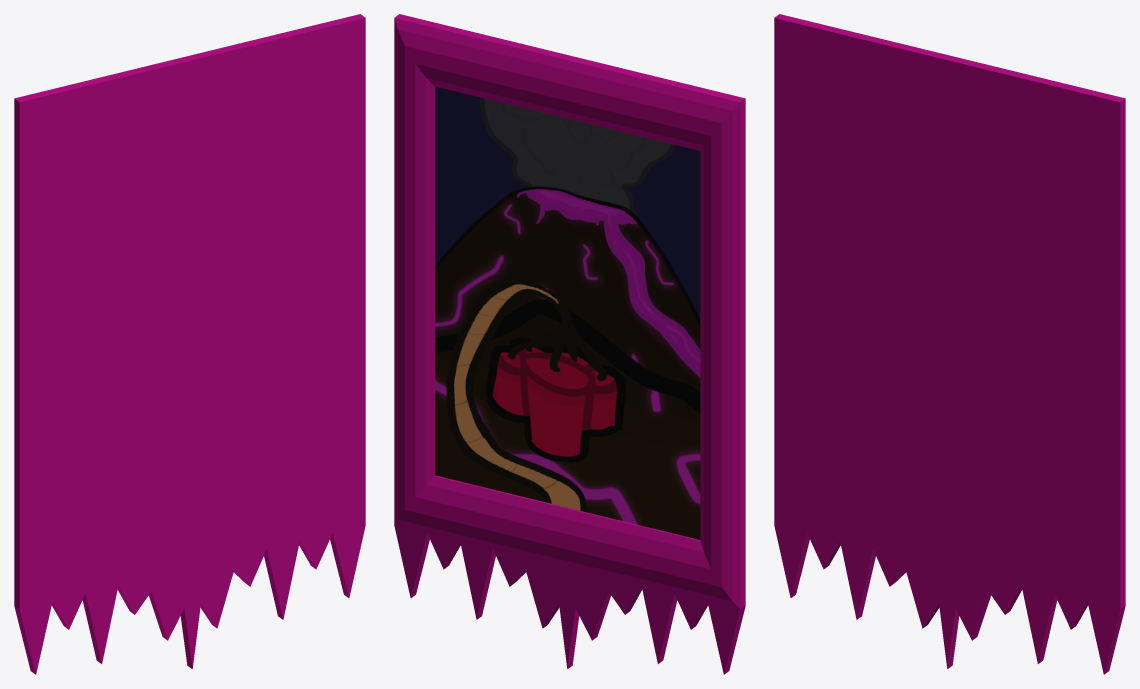
Rendered from frameM.fbx.
3 views of the same model, side by side, from view 1: azimuth 30°, elevation 25°; view 2: azimuth 150°, elevation 25°; view 3: azimuth 330°, elevation 25° (orthographic).
Parts seen in each view (by area): view 1: fire_portrait; view 2: fire_portrait; view 3: fire_portrait.
Boxes of the visible parts, left/top/right/bottom form: fire_portrait: left=14, top=14, right=365, bottom=674; fire_portrait: left=394, top=14, right=745, bottom=674; fire_portrait: left=774, top=14, right=1125, bottom=674.
Bounding box in the file's own units: 186 × 312 × 8.67.
2 materials, 1 textured.
